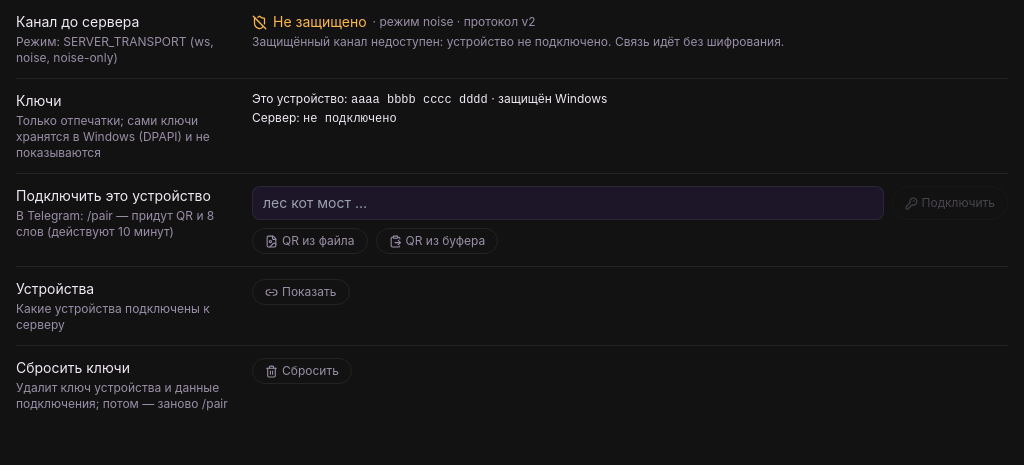
Test case: подключение по 8 словам: отпечаток сервера для сверки, кнопка недоступна без 8 слов
expect the element named "Состояние канала" shows "Не защищено": met, box [273,13,367,30]
expect the text "aaaa bbbb cccc dddd" is shown: met, box [351,93,488,107]
Type "лес кот" into the field named "8 слов".
click(568, 203); type("лес кот")  # box [252,186,884,220]
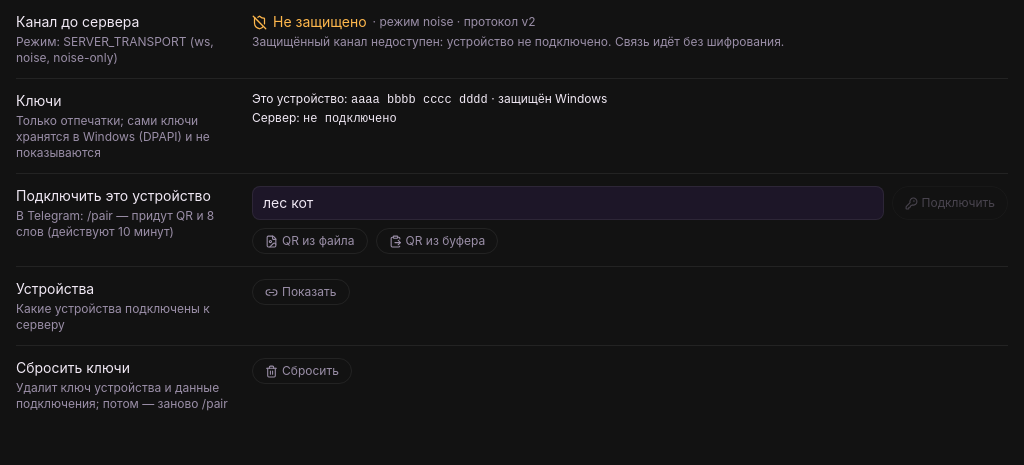
expect the button "Подключить" is disabled: met, box [892,186,1008,220]
Replace the text in the field named "8 слов" with "лес кот мост елка река гора снег луна" at (568, 203), box [252,186,884,220]
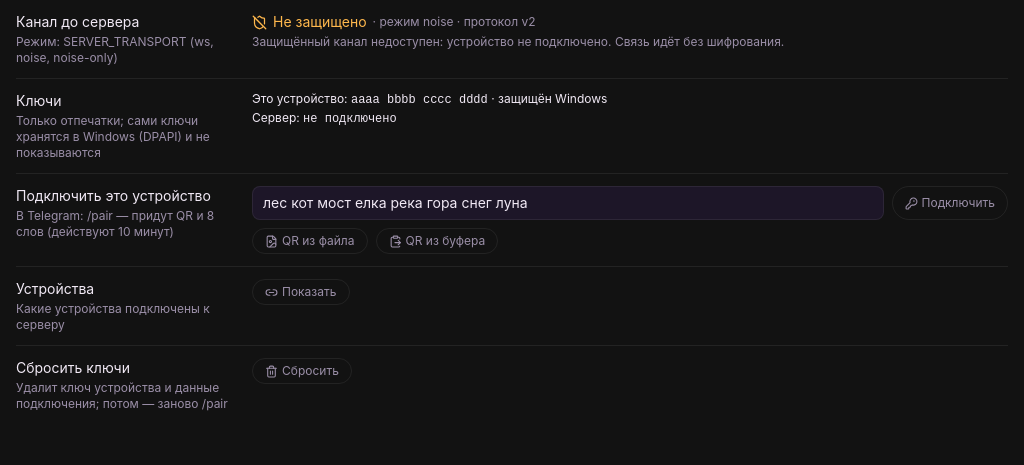
Click the button "Подключить".
click(950, 203)  # box [892,186,1008,220]
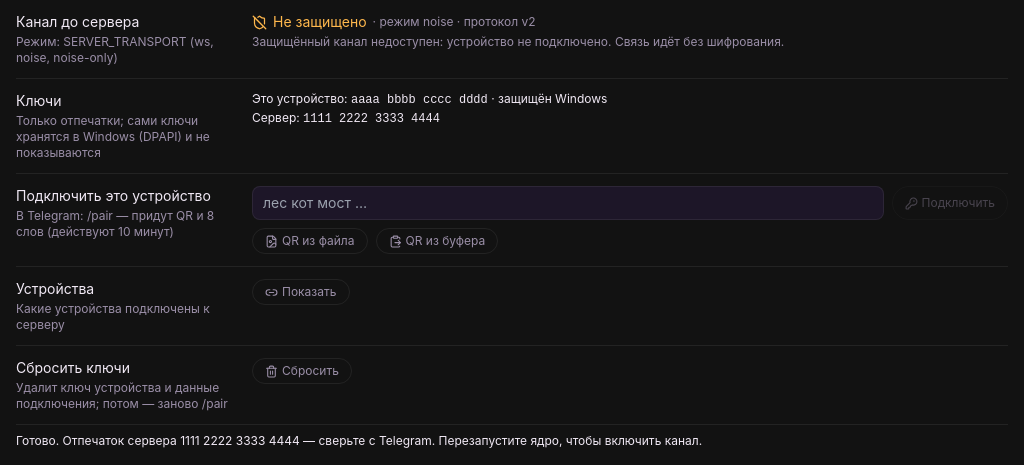
expect the message shows "1111 2222 3333 4444": met, box [16,433,702,448]
